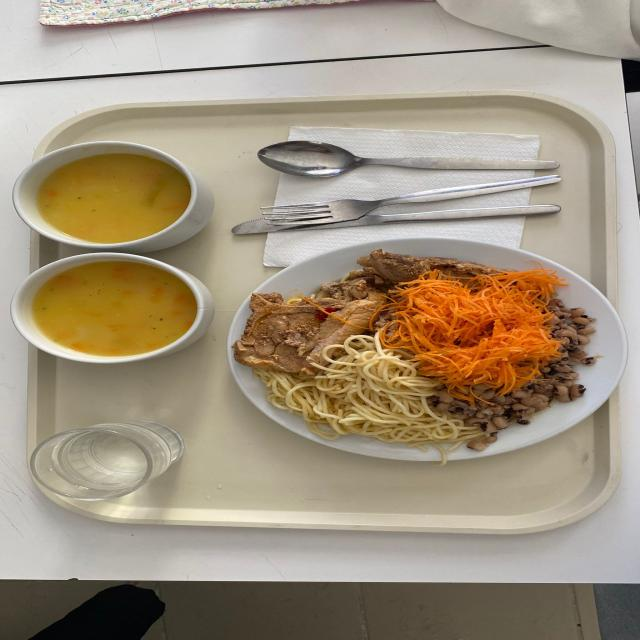beans: (428, 298, 596, 451)
board: (28, 91, 619, 534)
carrot: (371, 269, 566, 400)
fork: (262, 176, 559, 229)
garbage: (263, 217, 525, 268), (274, 166, 535, 205), (288, 126, 540, 160), (379, 187, 551, 214)
knife: (299, 205, 558, 229), (232, 223, 254, 234), (258, 225, 288, 233)
pork loin: (233, 279, 384, 374)
soup: (33, 263, 196, 355), (37, 153, 190, 243)
soupbowl: (11, 252, 214, 364), (12, 142, 214, 254)
spaghetti: (256, 335, 483, 464)
spoon: (258, 141, 558, 178)
water cup: (30, 422, 185, 501)
